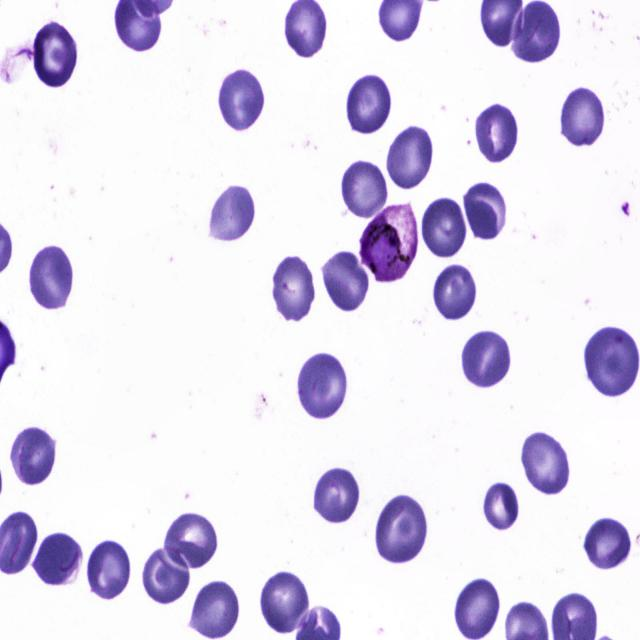difficult: (359, 202, 418, 289)
red blood cell: (583, 323, 638, 395), (374, 495, 427, 565), (296, 351, 348, 422), (257, 568, 311, 636), (384, 122, 434, 191), (269, 253, 317, 324), (460, 327, 512, 390), (186, 580, 241, 639), (521, 430, 570, 496), (24, 246, 74, 310), (33, 22, 79, 91), (214, 68, 264, 130), (340, 158, 390, 220), (164, 512, 217, 570), (320, 250, 368, 314), (10, 424, 58, 487), (310, 466, 362, 524), (511, 3, 559, 64), (206, 186, 256, 244), (453, 576, 499, 639), (344, 74, 390, 136), (285, 0, 330, 63), (421, 197, 467, 258), (32, 533, 82, 589), (86, 543, 135, 600), (583, 514, 631, 572), (474, 100, 518, 162), (464, 178, 508, 240), (559, 88, 604, 148), (142, 548, 188, 605), (433, 265, 478, 320), (482, 482, 518, 531)
